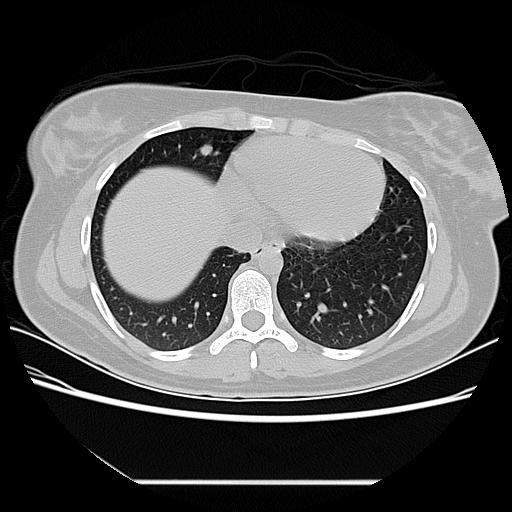nodule: (198, 142, 215, 159)
